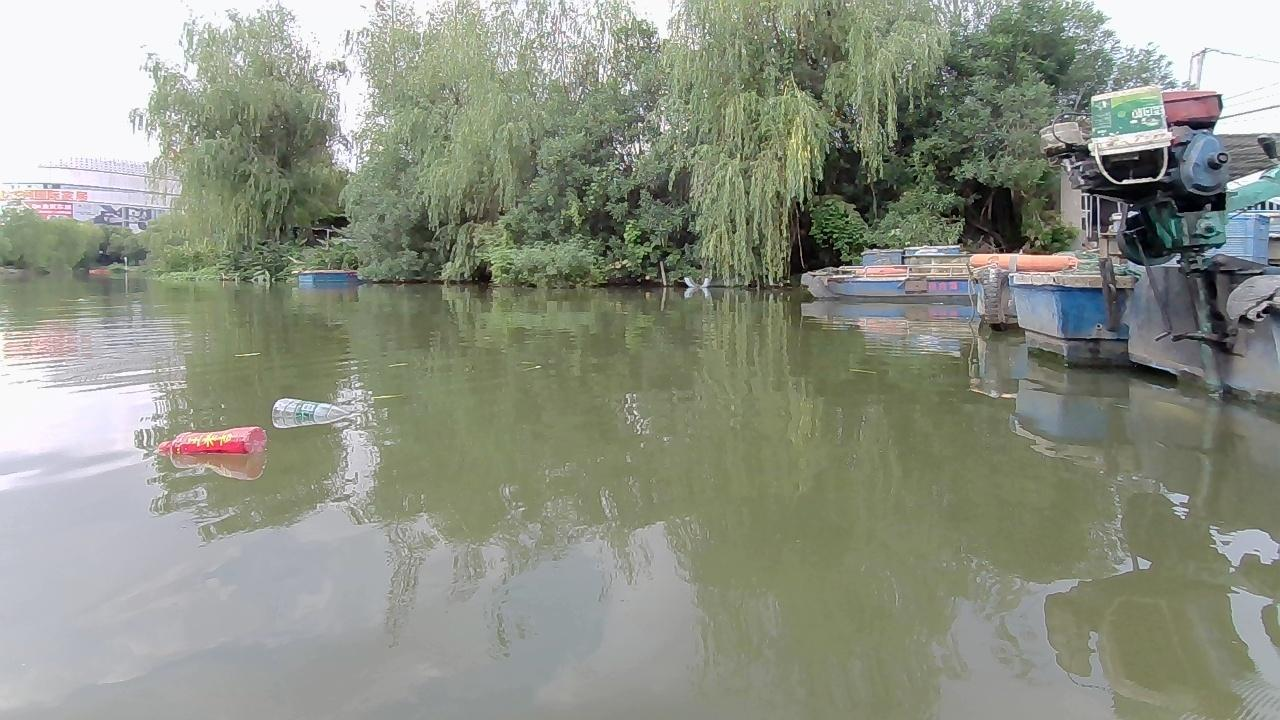bottle: (148, 427, 264, 469), (273, 394, 361, 430)
